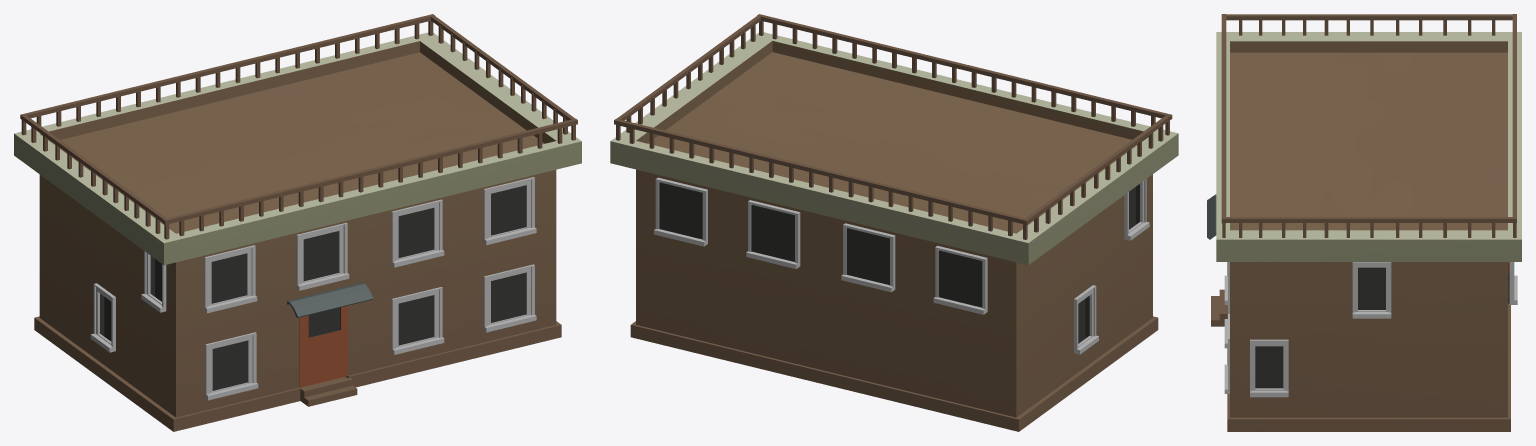
Rendered from home5.fbx.
The picture shows the model from 3 angles, left to right: view 1: azimuth 30°, elevation 25°; view 2: azimuth 150°, elevation 25°; view 3: azimuth 270°, elevation 25°; orthographic projection.
Visible parts, largest first — view 1: Cube.290; view 2: Cube.290; view 3: Cube.290.
Boxes of the visible parts, left/top/right/bottom form: Cube.290: left=14, top=14, right=581, bottom=431; Cube.290: left=610, top=14, right=1178, bottom=431; Cube.290: left=1207, top=14, right=1521, bottom=431.
Bounding box in the file's own units: 17.2 × 8.49 × 11.02.
